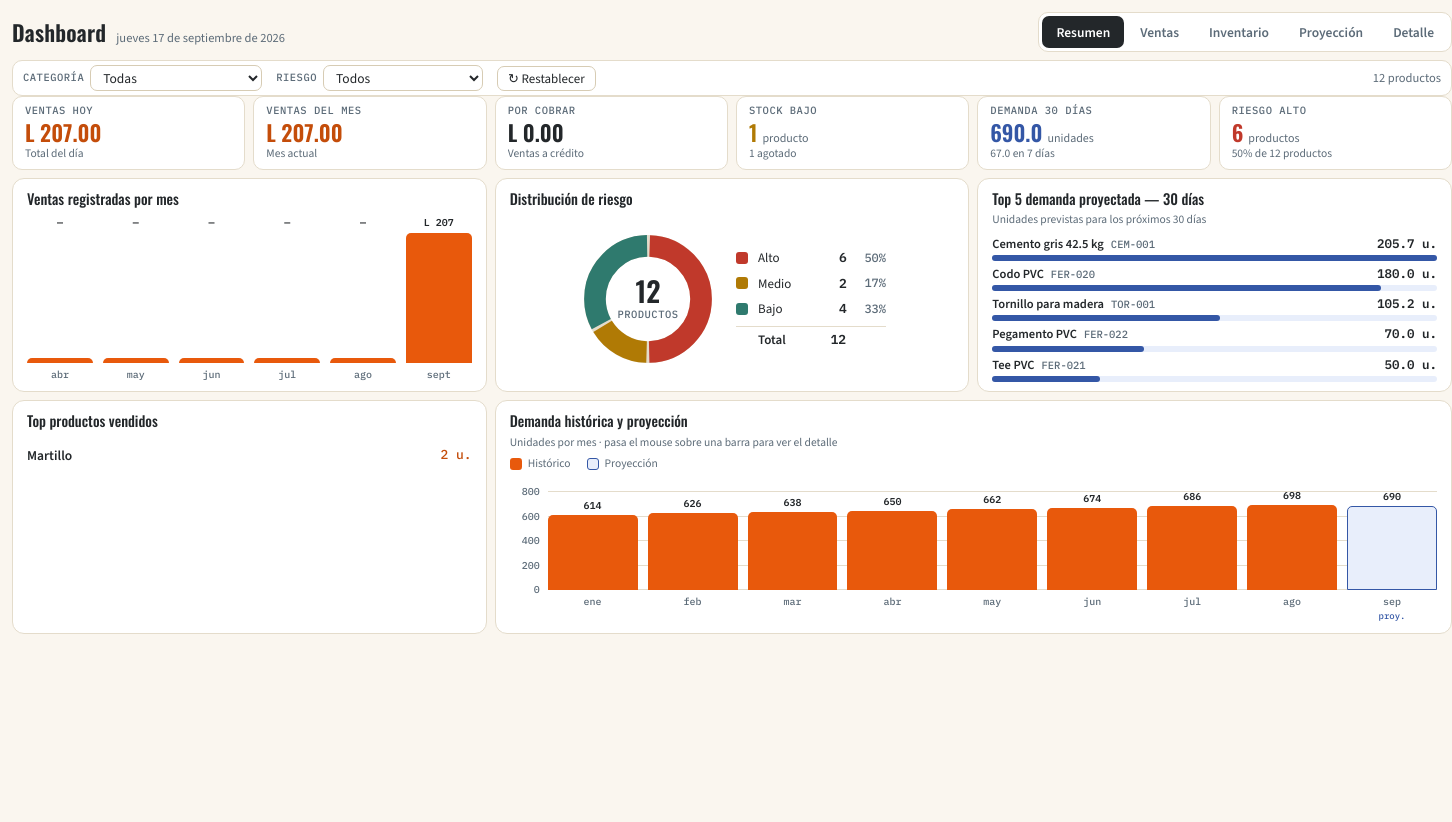
Test: navegación entre vistas › Inventario reúne existencias, riesgo, inversión y prioridad de reposición
Check: the text "Distribución de riesgo" is shown, box [510,188,633,209]
Click the tab "Inventario" at (1239, 32), box [1195,16,1283,48]
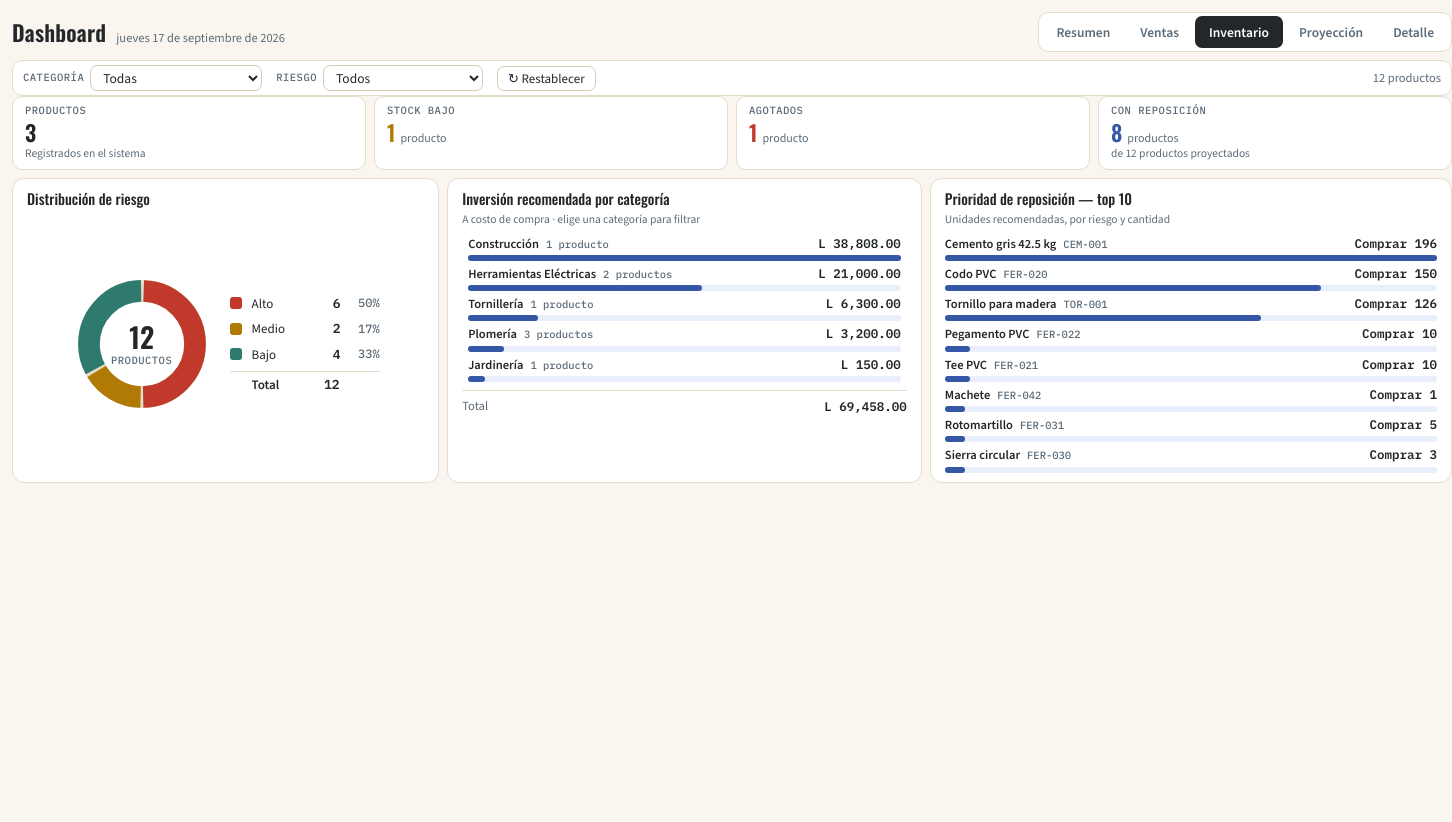
Check: the text "Productos" shows "3", box [25,116,36,148]
Check: the text "Agotados" shows "1producto", box [736,96,1090,170]
Check: the text "Inversión recomendada por categoría" is shown, box [462,188,670,209]
